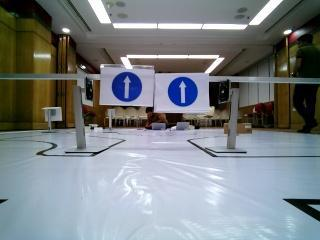straight: (102, 64, 153, 104), (156, 74, 207, 112)
